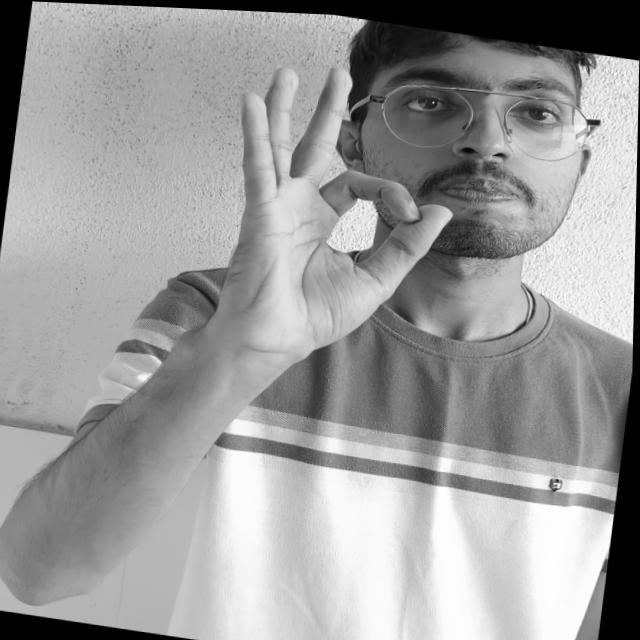Superb: (183, 33, 474, 393)
